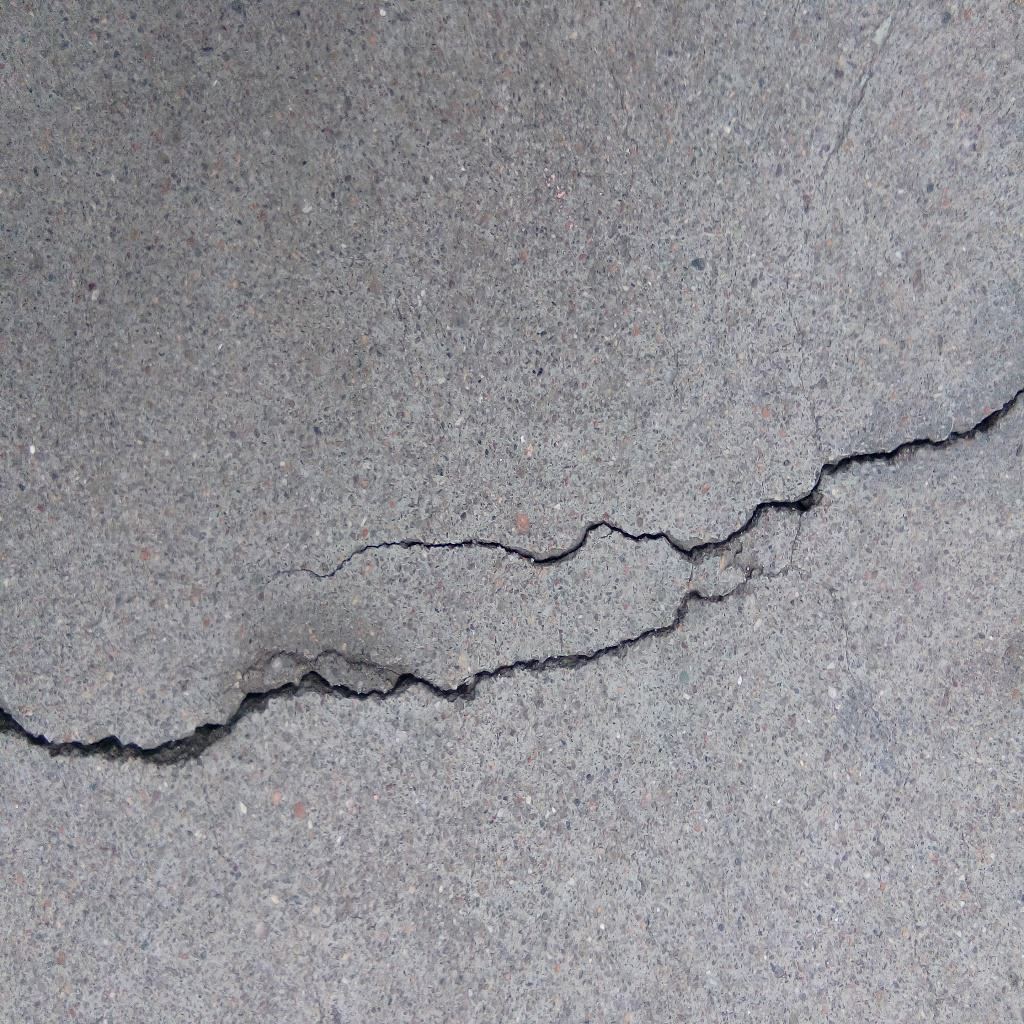Crack: (1, 566, 789, 766), (273, 387, 1024, 581)
